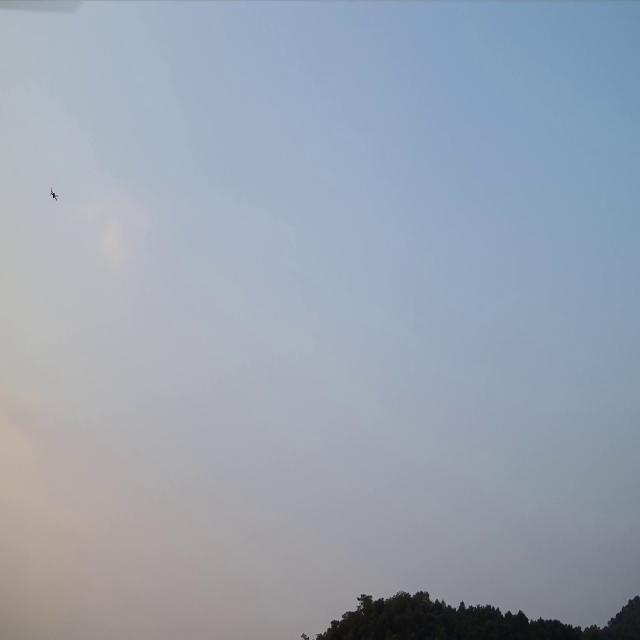UAV: (50, 186, 57, 202)
